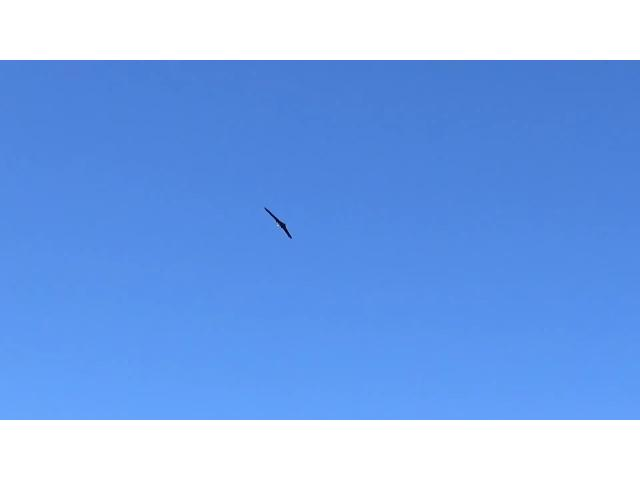Anti-Drone: (256, 202, 308, 244)
